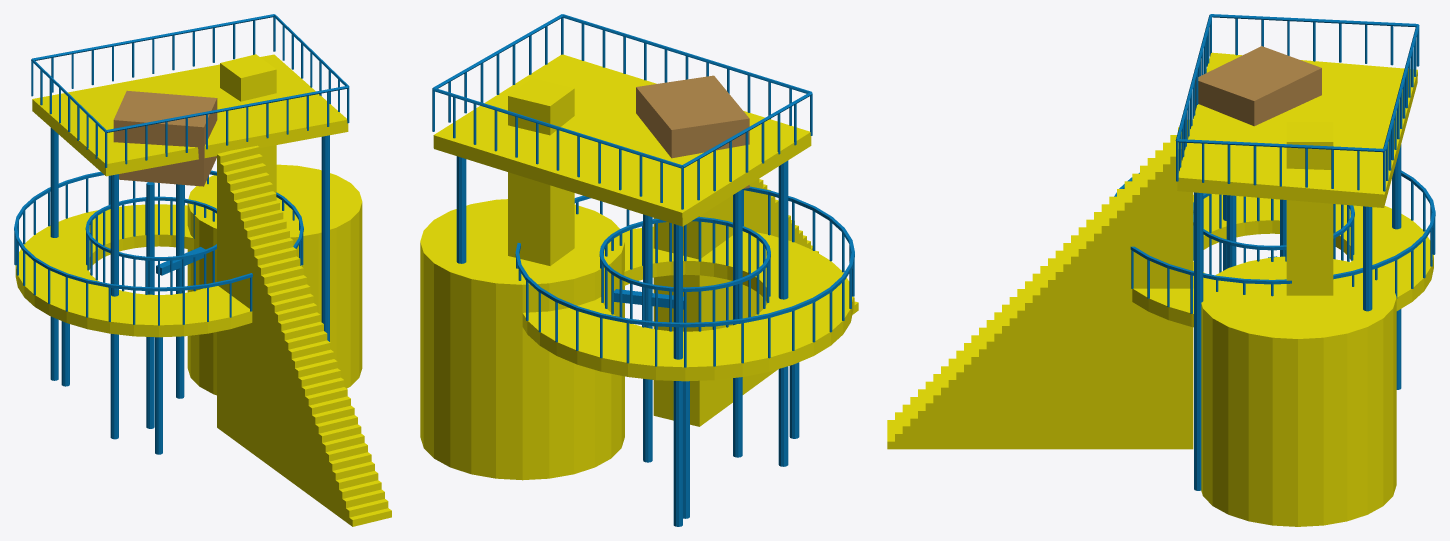
File: folie_tag_063.glb
The picture shows the model from 3 angles, left to right: view 1: azimuth 30°, elevation 25°; view 2: azimuth 150°, elevation 25°; view 3: azimuth 270°, elevation 25°; orthographic projection. The views are drawn at different scales.
Visible parts, largest first — view 1: folie_tag_063_stairs, folie_tag_063_line, folie_tag_063_00_plate, folie_tag_063_01_ring, folie_tag_063_02_drum, folie_tag_063_03_block, folie_tag_063_core; view 2: folie_tag_063_02_drum, folie_tag_063_line, folie_tag_063_00_plate, folie_tag_063_01_ring, folie_tag_063_stairs, folie_tag_063_core, folie_tag_063_03_block; view 3: folie_tag_063_stairs, folie_tag_063_02_drum, folie_tag_063_00_plate, folie_tag_063_line, folie_tag_063_01_ring, folie_tag_063_03_block, folie_tag_063_core.
Part boxes in pixels (<box>): folie_tag_063_stairs: <box>217,145,391,526</box>; folie_tag_063_line: <box>14,14,349,454</box>; folie_tag_063_00_plate: <box>32,54,348,176</box>; folie_tag_063_01_ring: <box>15,204,302,337</box>; folie_tag_063_02_drum: <box>187,164,362,395</box>; folie_tag_063_03_block: <box>113,90,217,186</box>; folie_tag_063_core: <box>220,54,276,199</box>; folie_tag_063_02_drum: <box>420,199,624,480</box>; folie_tag_063_line: <box>432,14,854,526</box>; folie_tag_063_00_plate: <box>433,54,811,226</box>; folie_tag_063_01_ring: <box>522,226,853,381</box>; folie_tag_063_stairs: <box>653,179,858,426</box>; folie_tag_063_core: <box>508,78,574,265</box>; folie_tag_063_03_block: <box>636,75,749,188</box>; folie_tag_063_stairs: <box>887,120,1193,449</box>; folie_tag_063_02_drum: <box>1201,256,1396,526</box>; folie_tag_063_00_plate: <box>1177,52,1417,207</box>; folie_tag_063_line: <box>1114,14,1435,490</box>; folie_tag_063_01_ring: <box>1132,194,1433,327</box>; folie_tag_063_03_block: <box>1195,46,1321,126</box>; folie_tag_063_core: <box>1286,122,1333,295</box>.
Bounding box in the file's own units: 10.06 × 9.26 × 12.9.
